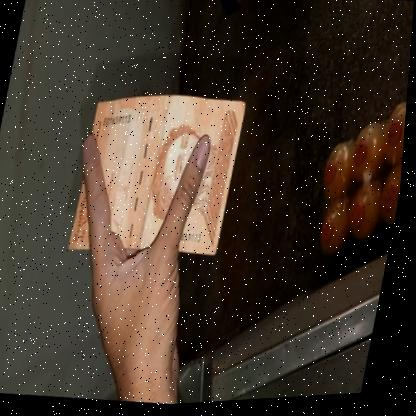twenty-front-vef: (70, 83, 250, 269)
